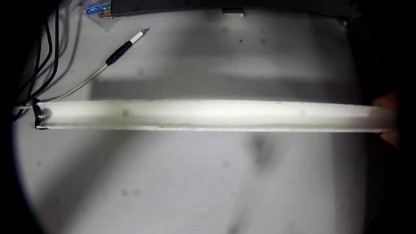gangzhu: (35, 106, 46, 123)
